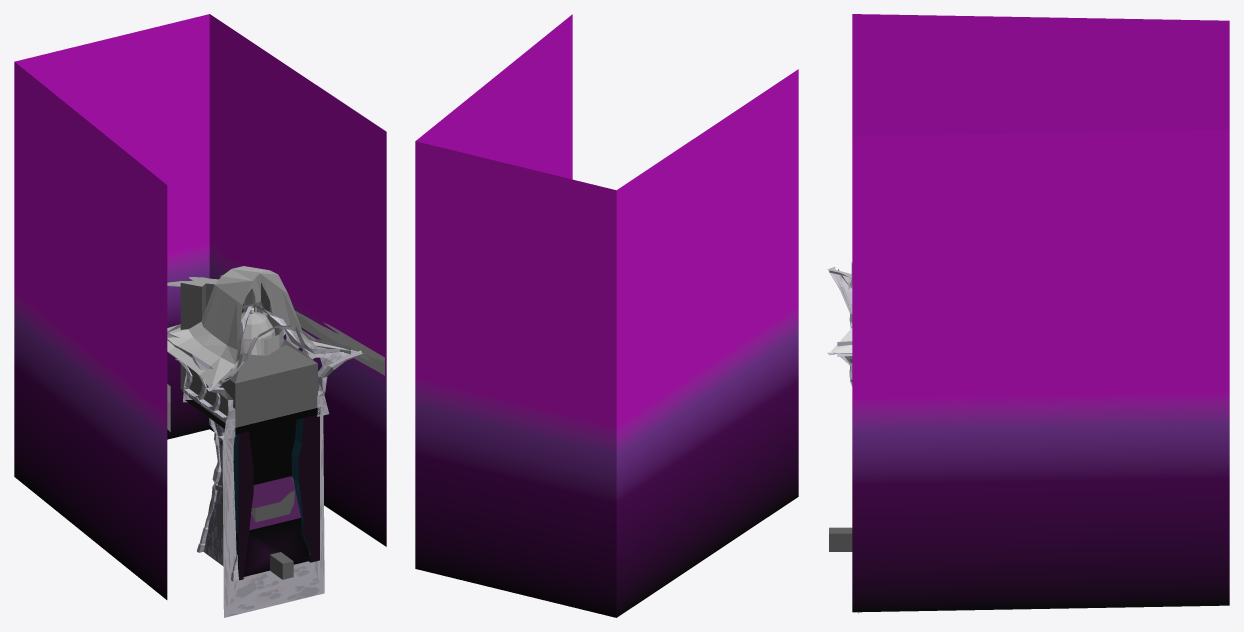
The model's file is jin_04.dae.
3 renders of one model, left to right at view 1: azimuth 30°, elevation 25°; view 2: azimuth 150°, elevation 25°; view 3: azimuth 270°, elevation 25°, orthographic. The views are drawn at different scales.
Visible parts, largest first — view 1: pCube5_q00017, S_f2_yane, a_f2_hon, a_gawa01, S_msk, polySurface126_q00004, polySurface125_q00003, polySurface12_q00053, a_kagu01, pPlane3_q00019, polySurface2_q00055, S_f2_hasi (+5 smaller); view 2: pCube5_q00017; view 3: pCube5_q00017, a_bero_1.
Boxes of the visible parts, x1,y1,x2,y2 form: pCube5_q00017: (14,14,386,599); S_f2_yane: (167,266,360,388); a_f2_hon: (188,339,317,427); a_gawa01: (215,420,308,576); S_msk: (222,415,324,617); polySurface126_q00004: (291,415,319,562); polySurface125_q00003: (233,431,253,580); polySurface12_q00053: (167,301,353,388); a_kagu01: (180,266,272,389); pPlane3_q00019: (167,277,384,375); polySurface2_q00055: (167,350,362,439); S_f2_hasi: (175,329,361,422); pCube5_q00017: (415,14,798,617); pCube5_q00017: (852,14,1229,612); a_bero_1: (829,527,852,551).
Bounding box in the file's own units: 100 × 196 × 139.
